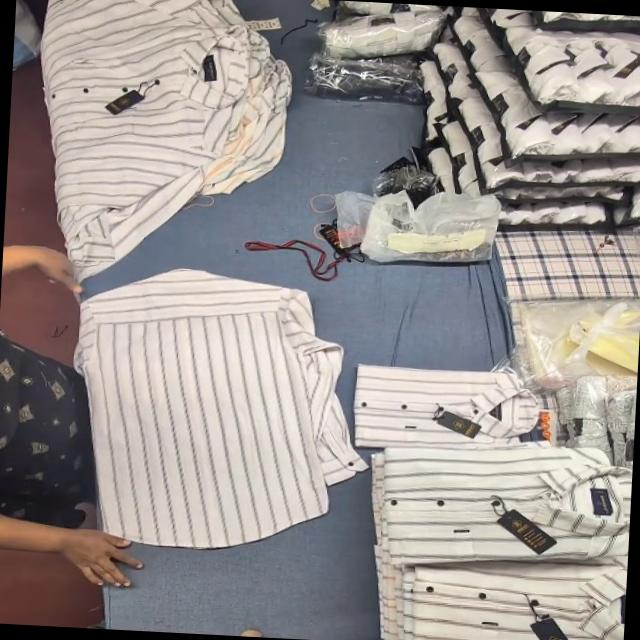new-garment: (76, 270, 366, 548)
